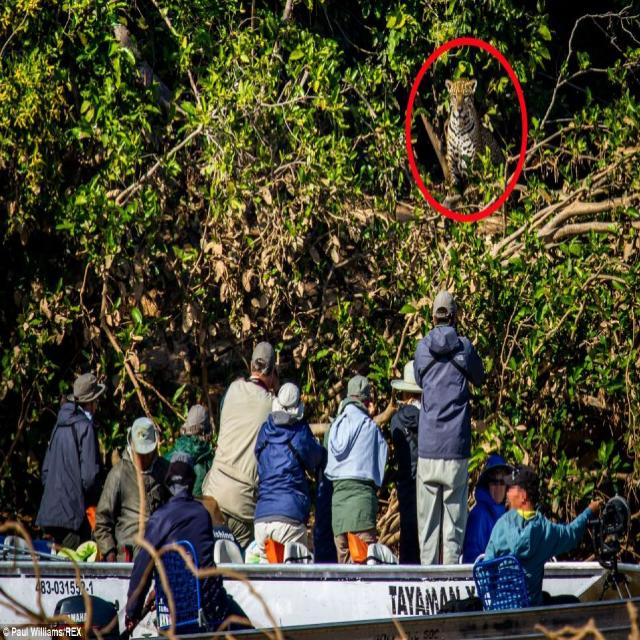body: (123, 448, 257, 639), (410, 286, 486, 591), (481, 465, 605, 614), (200, 340, 279, 554), (253, 380, 329, 564), (34, 370, 107, 552), (324, 373, 388, 565), (322, 392, 390, 566), (94, 413, 168, 566), (389, 358, 424, 566), (461, 453, 516, 566), (158, 402, 218, 502)
